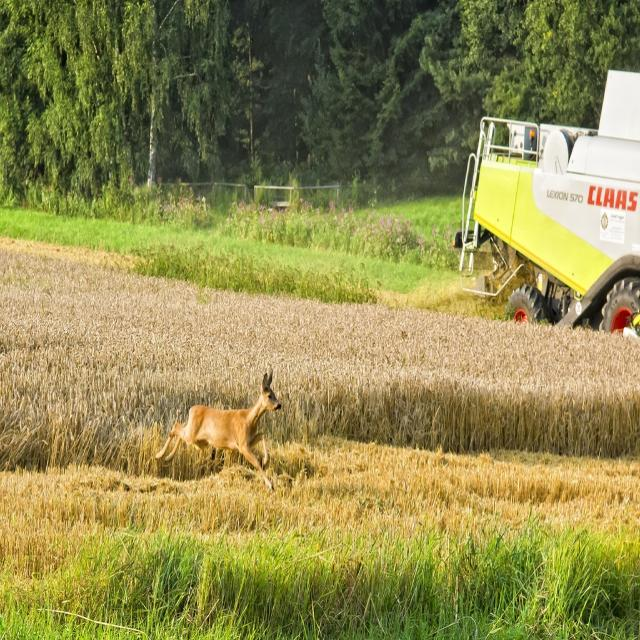Deer: (150, 372, 280, 499)
